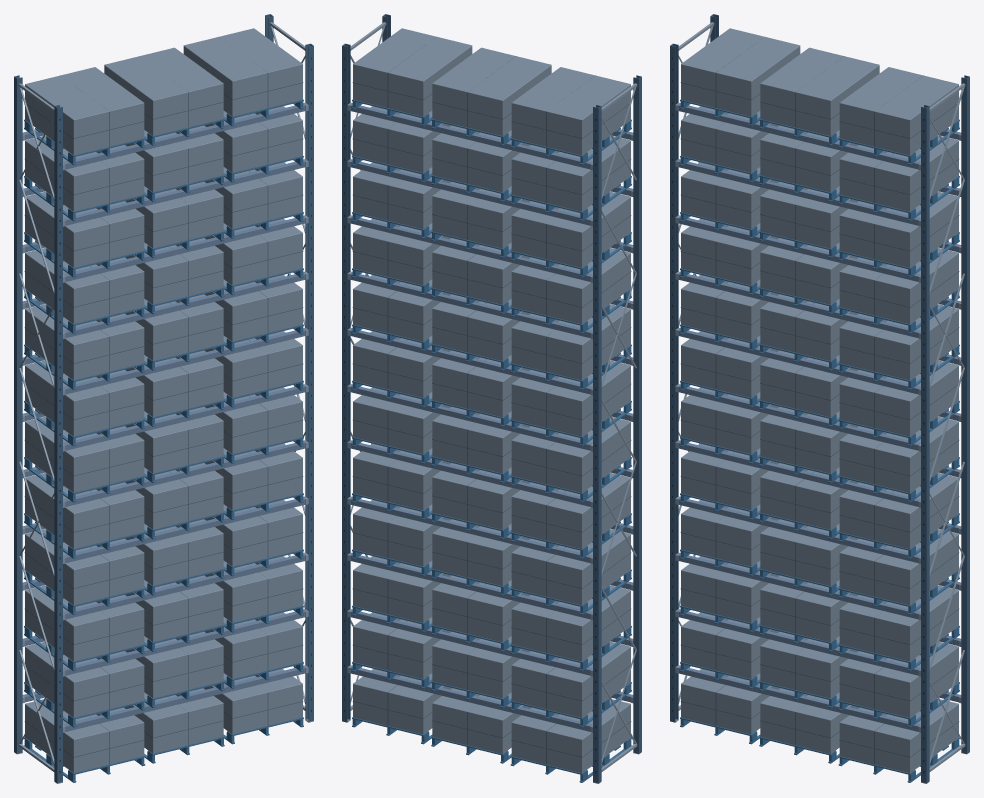
Rendered from SM_GHS_CADRack_B_W36363.fbx.
3 views of the same model, side by side, from view 1: azimuth 30°, elevation 25°; view 2: azimuth 150°, elevation 25°; view 3: azimuth 330°, elevation 25° (orthographic).
Visible parts, largest first — view 1: SM_GHS_CADRack_B_W36363; view 2: SM_GHS_CADRack_B_W36363; view 3: SM_GHS_CADRack_B_W36363.
Part boxes in pixels (x1,y1,x2,y2): SM_GHS_CADRack_B_W36363: (14, 14, 313, 783); SM_GHS_CADRack_B_W36363: (342, 14, 641, 783); SM_GHS_CADRack_B_W36363: (670, 14, 969, 783).
Bounding box in the file's own units: 364 × 122 × 915.
